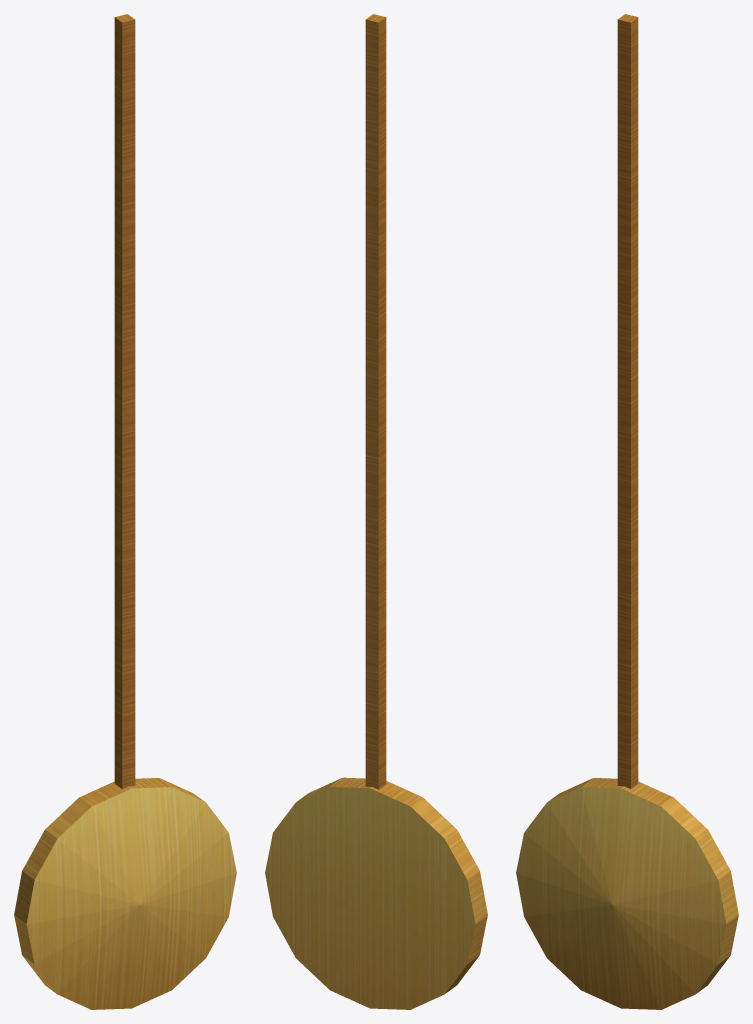
Rendered from pendulo.obj.
3 views of the same model, side by side, from view 1: azimuth 30°, elevation 25°; view 2: azimuth 150°, elevation 25°; view 3: azimuth 330°, elevation 25° (orthographic).
Parts seen in each view (by area): view 1: polySurface2; view 2: polySurface2; view 3: polySurface2.
Boxes of the visible parts, x1=… form: polySurface2: x1=14, y1=14, x2=236, y2=1009; polySurface2: x1=265, y1=14, x2=487, y2=1009; polySurface2: x1=516, y1=14, x2=738, y2=1009.
Size of the model in its own units: 0.7663 by 3.43 by 0.134.
